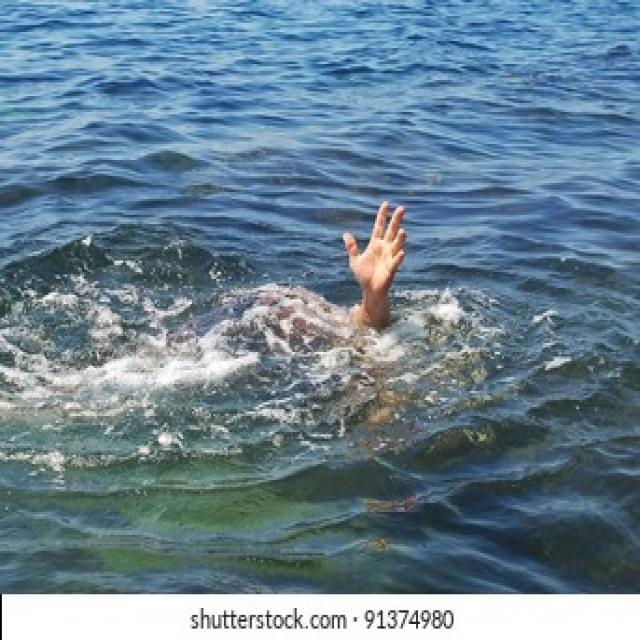drowning: (133, 144, 454, 389)
